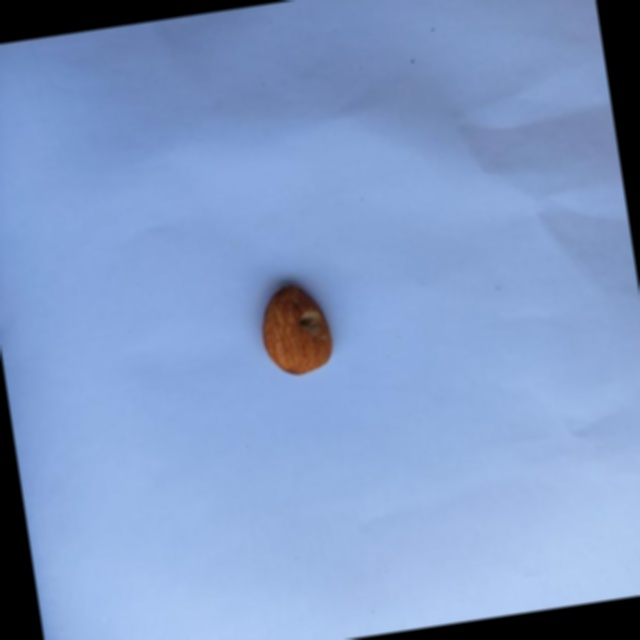grade3: (253, 275, 342, 384)
